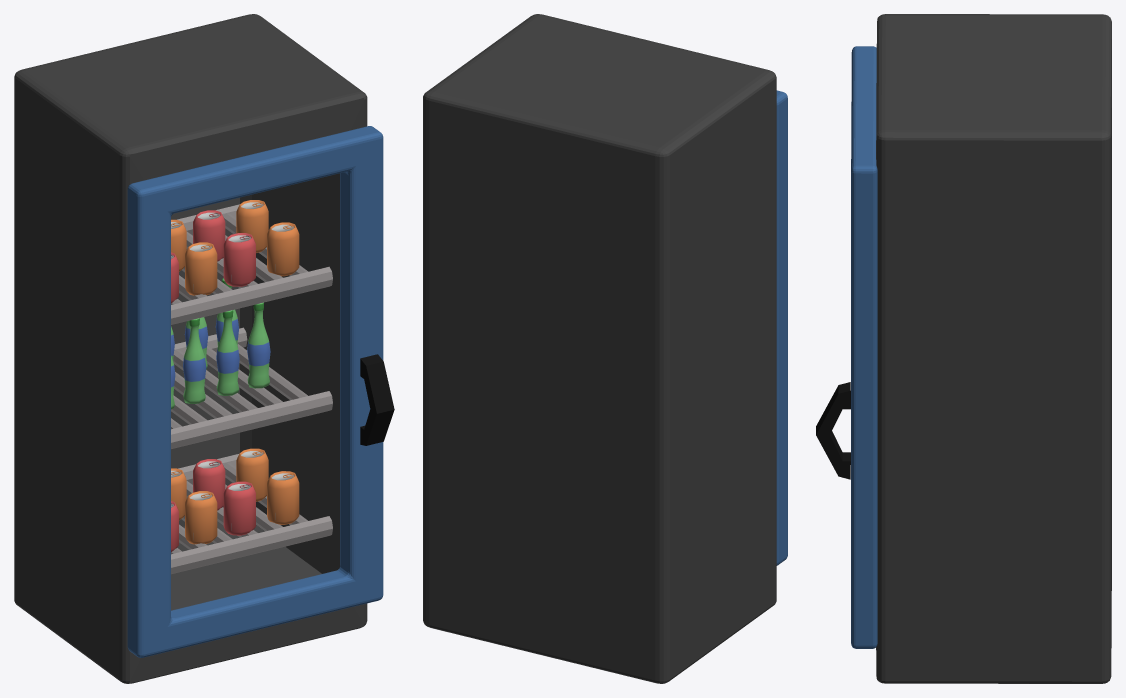
File: drinksFridge.fbx
3 renders of one model, left to right at view 1: azimuth 30°, elevation 25°; view 2: azimuth 150°, elevation 25°; view 3: azimuth 270°, elevation 25°, orthographic. The views are drawn at different scales.
Parts seen in each view (by area): view 1: Cube.001; view 2: Cube.001; view 3: Cube.001.
Part boxes in pixels (x1,y1,x2,y2): Cube.001: (14, 14, 394, 683); Cube.001: (423, 14, 787, 683); Cube.001: (816, 14, 1111, 683).
Size of the model in its own units: 100 by 206 by 100.
8 materials, 8 textured.
